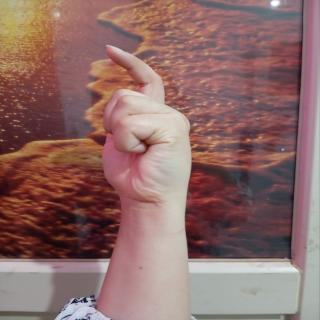RAA: (84, 38, 200, 230)
